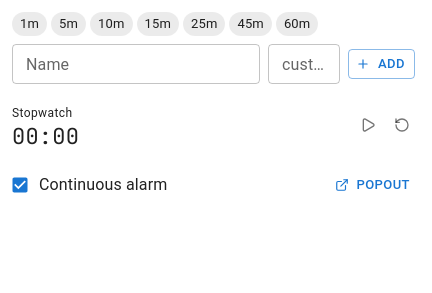
TimersPanel › adds a timer via a preset chip
Click the button named "set 5 minutes": [68, 24] box x1=51 y1=12 x2=86 y2=36
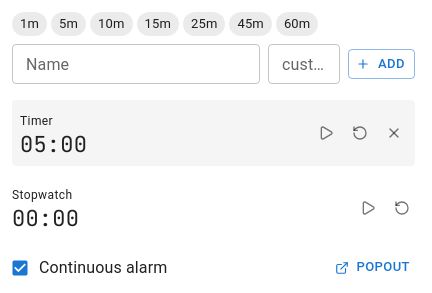
Now the text "05:00" is shown, box x1=20 y1=130 x2=87 y2=159
